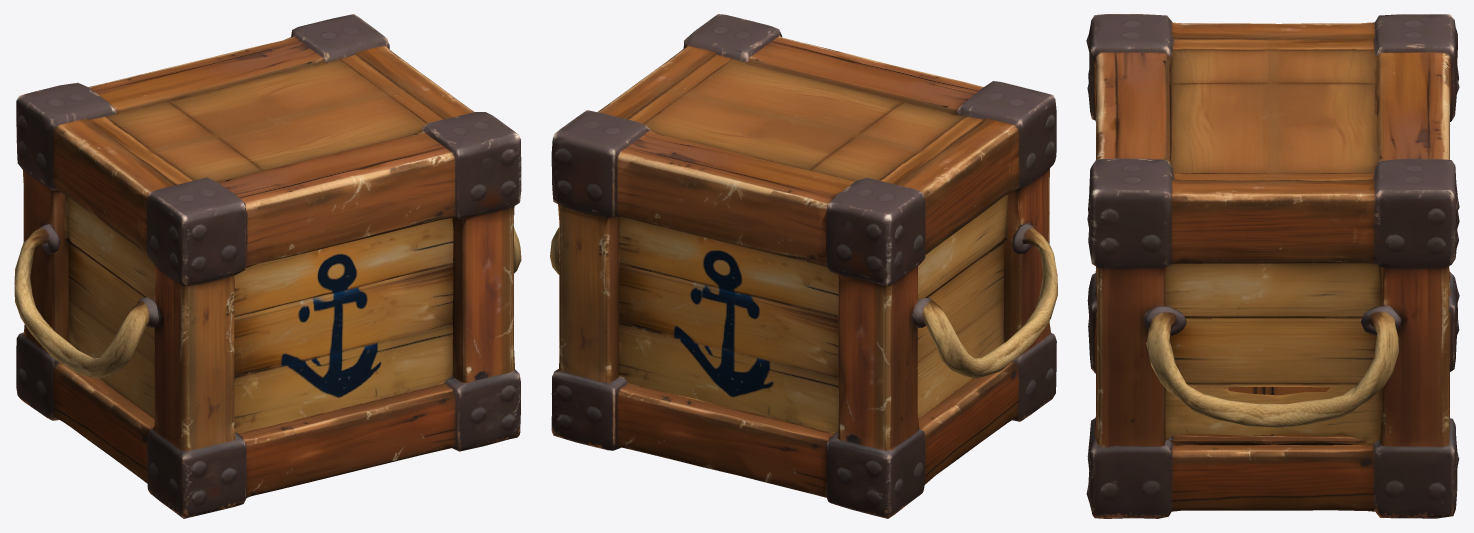
The model's file is crate.glb.
3 views of the same model, side by side, from view 1: azimuth 30°, elevation 25°; view 2: azimuth 150°, elevation 25°; view 3: azimuth 270°, elevation 25° (orthographic). The views are drawn at different scales.
Parts seen in each view (by area): view 1: world; view 2: world; view 3: world.
Boxes of the visible parts, bbox=[...] form: world: bbox=[14, 14, 521, 518]; world: bbox=[550, 14, 1057, 518]; world: bbox=[1086, 14, 1459, 518].
Bounding box in the file's own units: 0.996 × 0.687 × 0.7052.
Materials: 1 (1 with a texture image).
